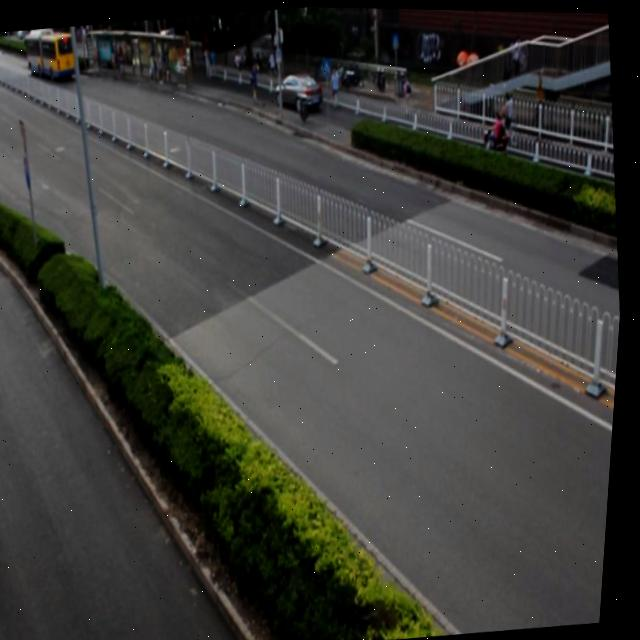car: (270, 64, 324, 111)
